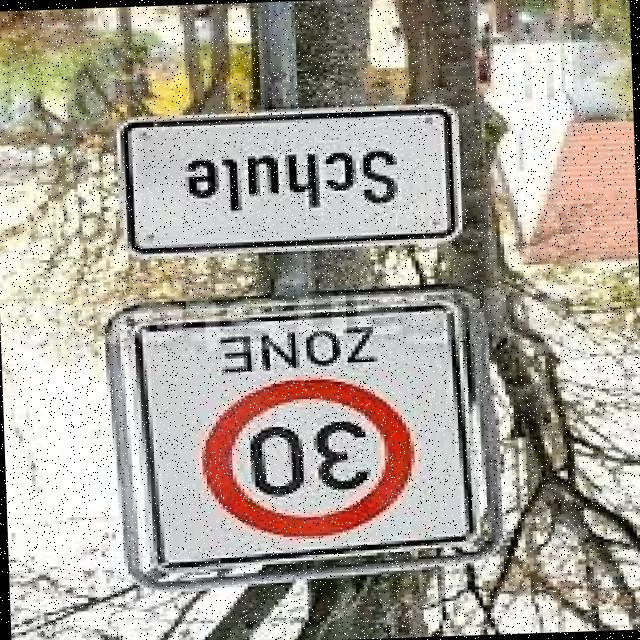speed_limit_30: (184, 372, 421, 545)
